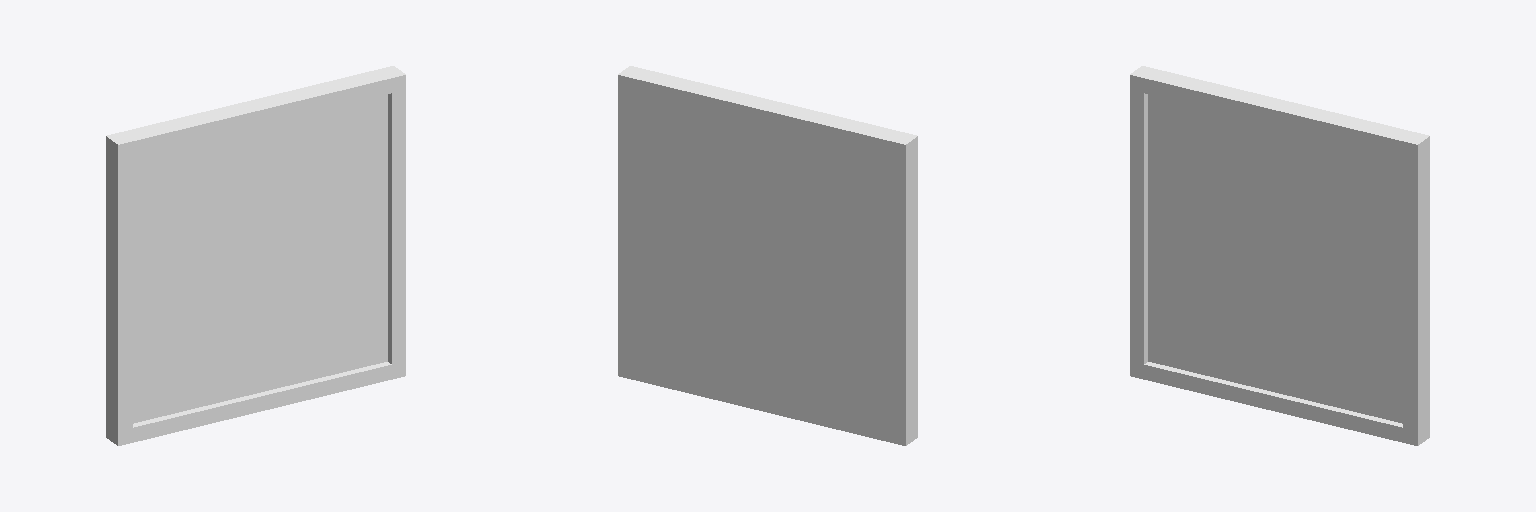
The model's file is portrait.obj.
3 views of the same model, side by side, from view 1: azimuth 30°, elevation 25°; view 2: azimuth 150°, elevation 25°; view 3: azimuth 330°, elevation 25° (orthographic).
Visible parts, largest first — view 1: object 1; view 2: object 1; view 3: object 1.
Boxes of the visible parts, x1,y1,x2,y2 form: object 1: [106, 66, 405, 445]; object 1: [618, 66, 917, 445]; object 1: [1130, 66, 1429, 445].
Size of the model in its own units: 4 by 4 by 0.3.